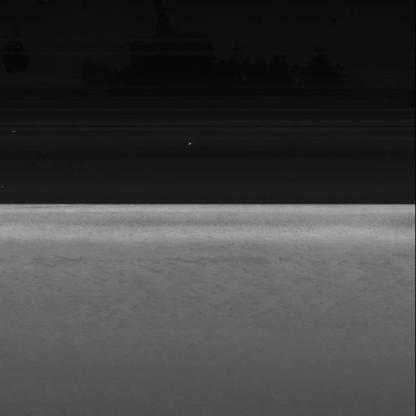silk_spot: (132, 247, 272, 299)
